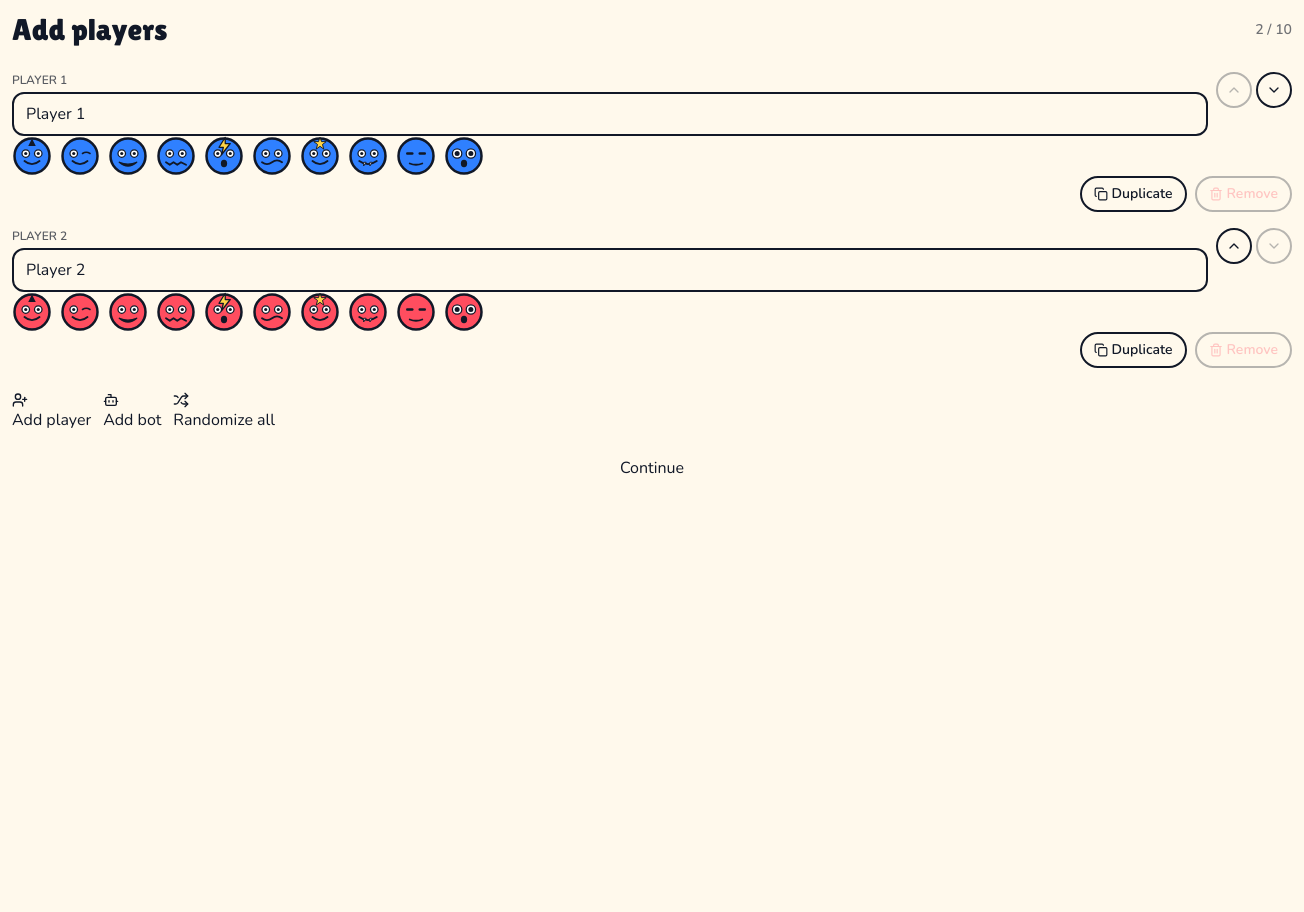
Scenario: PlayerSetupScreen › adds a new player when 'Add player' is clicked
Click the button "Add player" at (52, 412), box [12, 392, 91, 432]
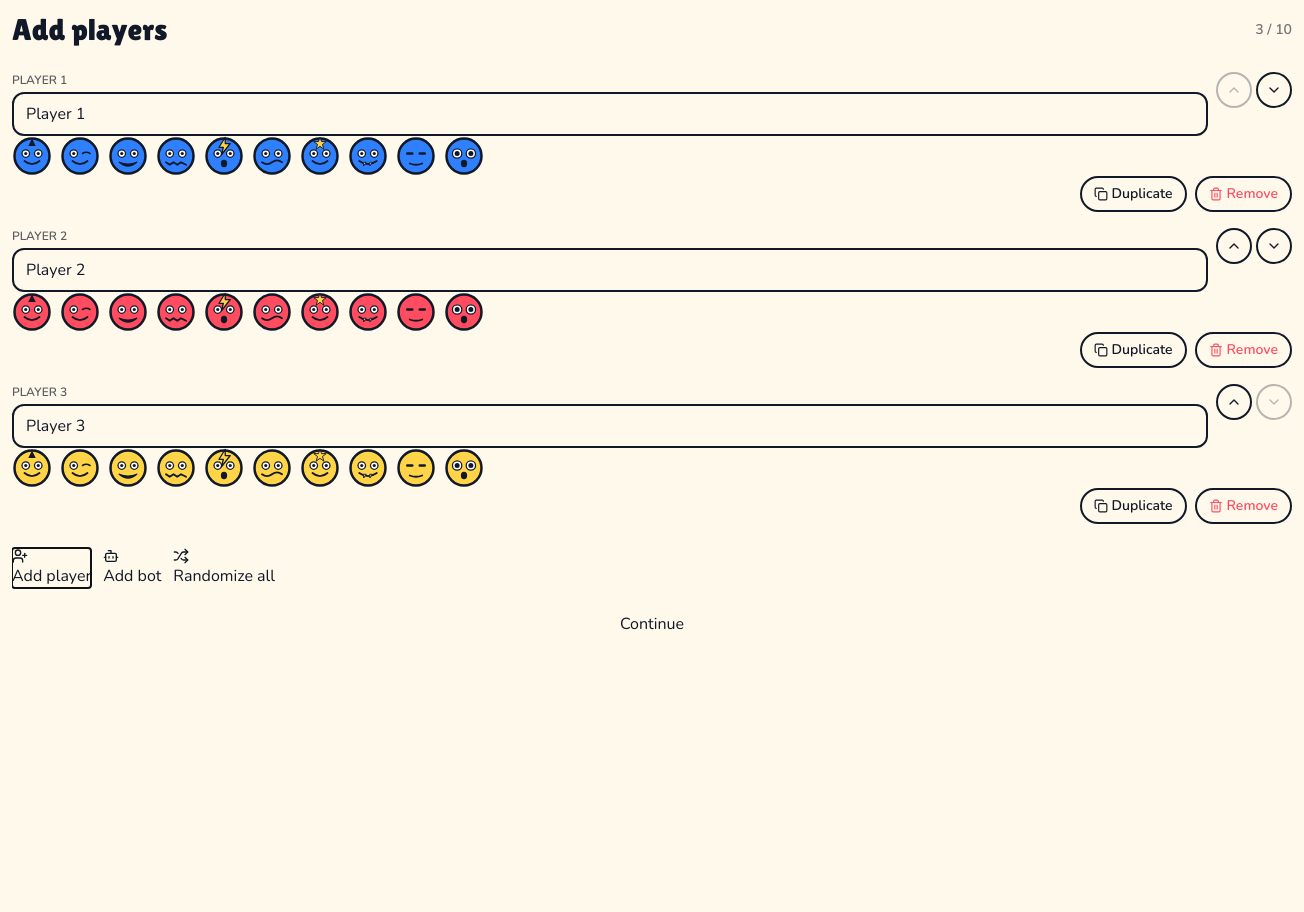
Expected: the field labelled "Player 3" is shown, [12, 404, 1208, 448]
